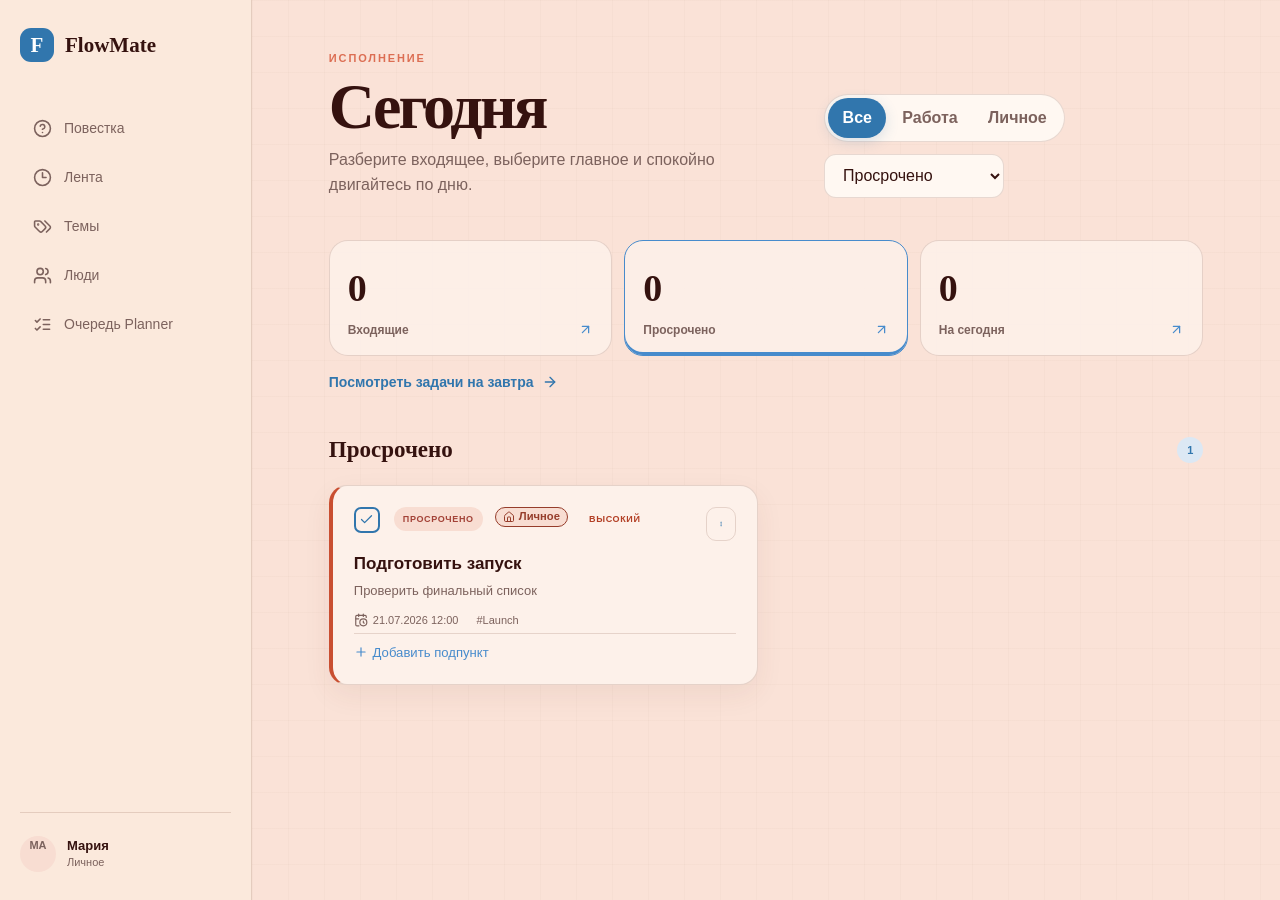
Test: operational screens › skips the completion transition when reduced motion is preferred
Click the button named "Готово" at (367,520), box [354, 507, 380, 533]
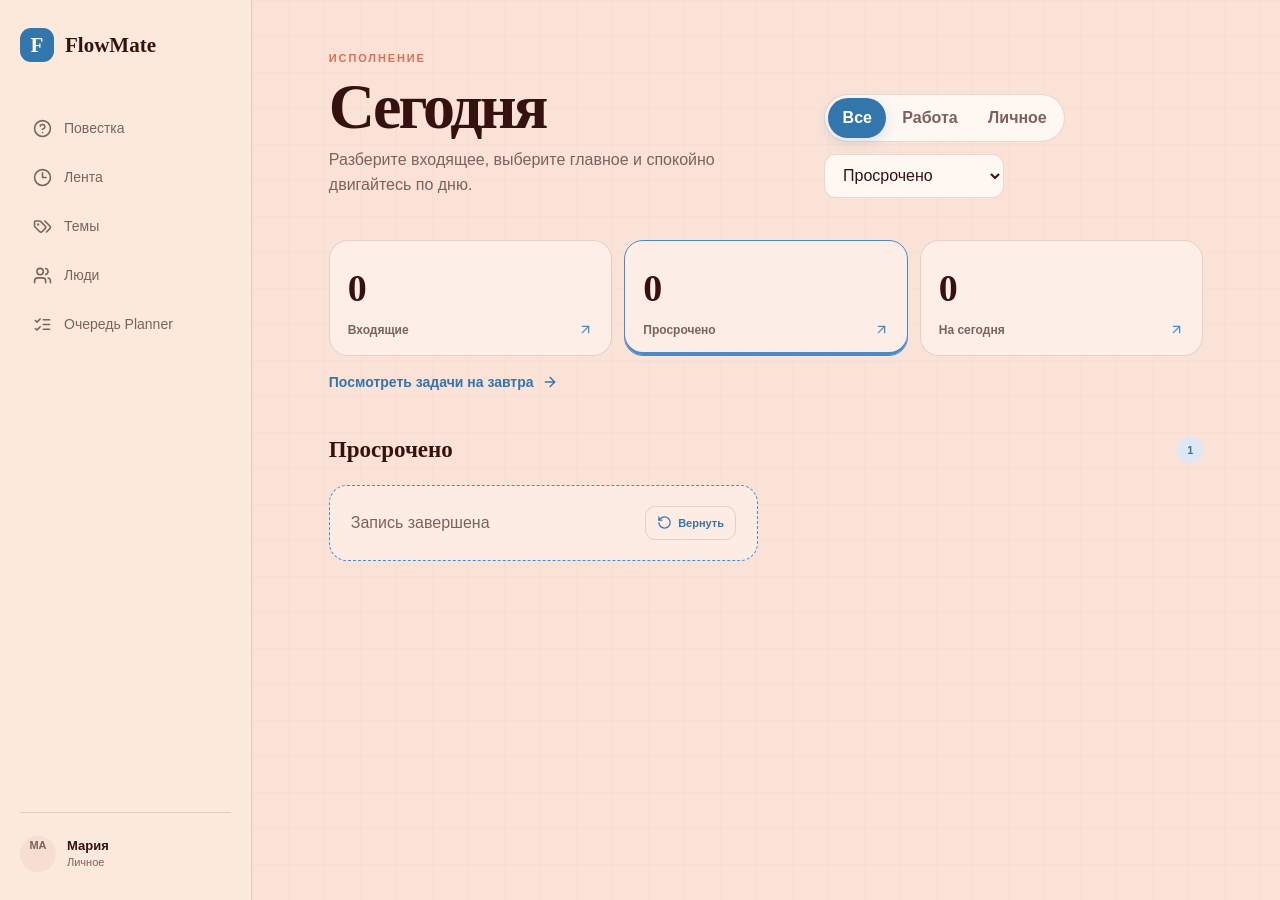
Expected: the message shows "Запись завершена", [351, 514, 490, 531]
